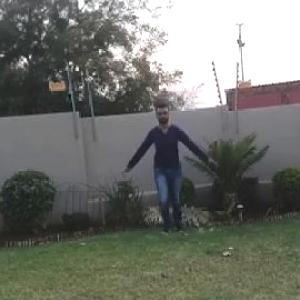land: (110, 101, 222, 248)
